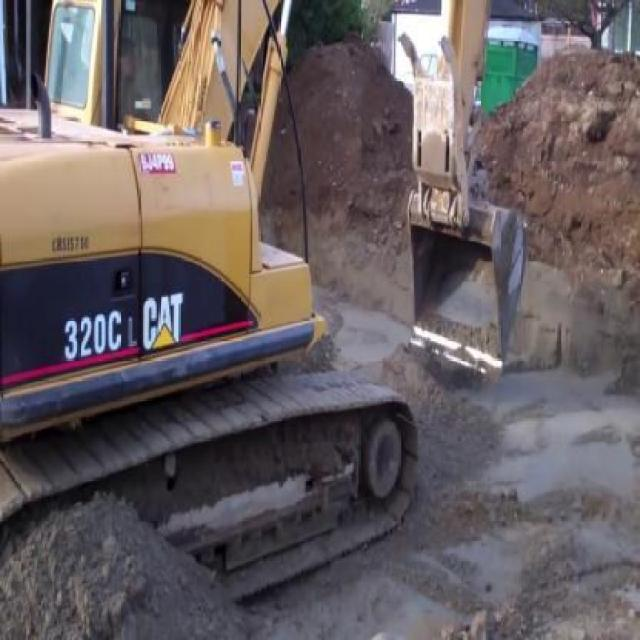excavator: (1, 1, 528, 607)
